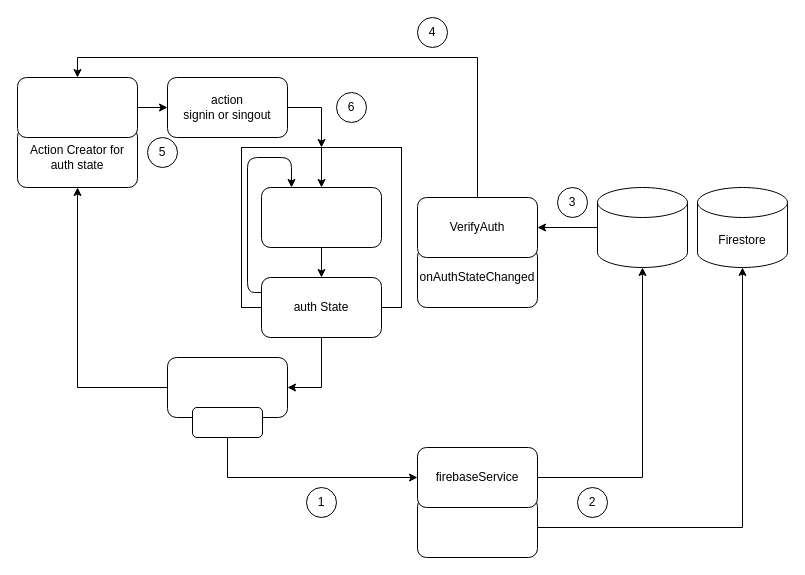
Some shapes in this 805 by 575 pixel diagram are drawn without their labels. The centre of each missing label's shape, as x and y in pixels:
dispatch: point (77, 107)
Firebase Auth: point (642, 227)
firestoreService: point (477, 527)
onSubmit: point (227, 422)
Reducers: point (321, 217)
UI: point (227, 387)
